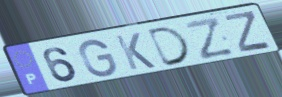6: (42, 47, 80, 83)
D: (146, 24, 194, 69)
G: (78, 38, 119, 79)
K: (113, 31, 159, 72)
Z: (183, 16, 237, 62), (222, 9, 274, 54)
